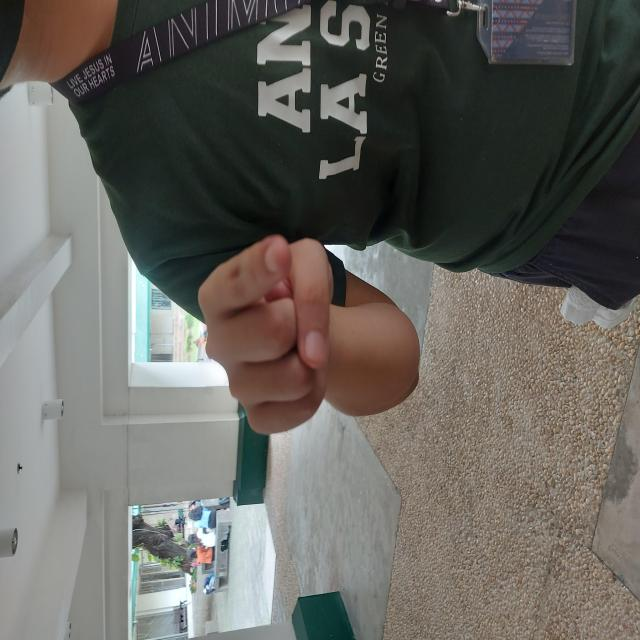Z: (203, 194, 408, 336)
